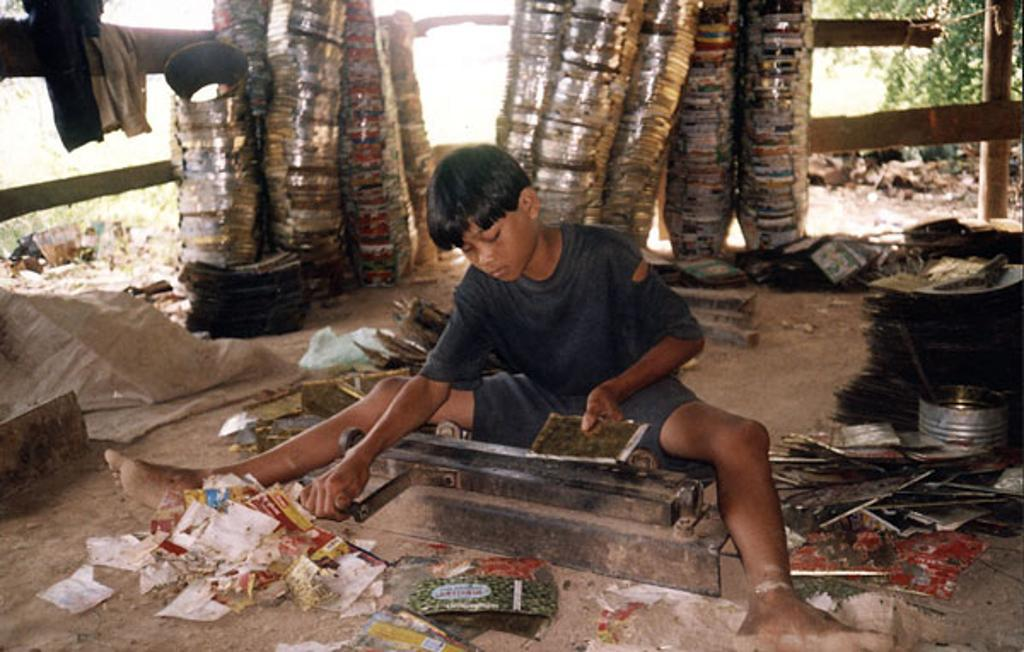face: (441, 179, 525, 285)
